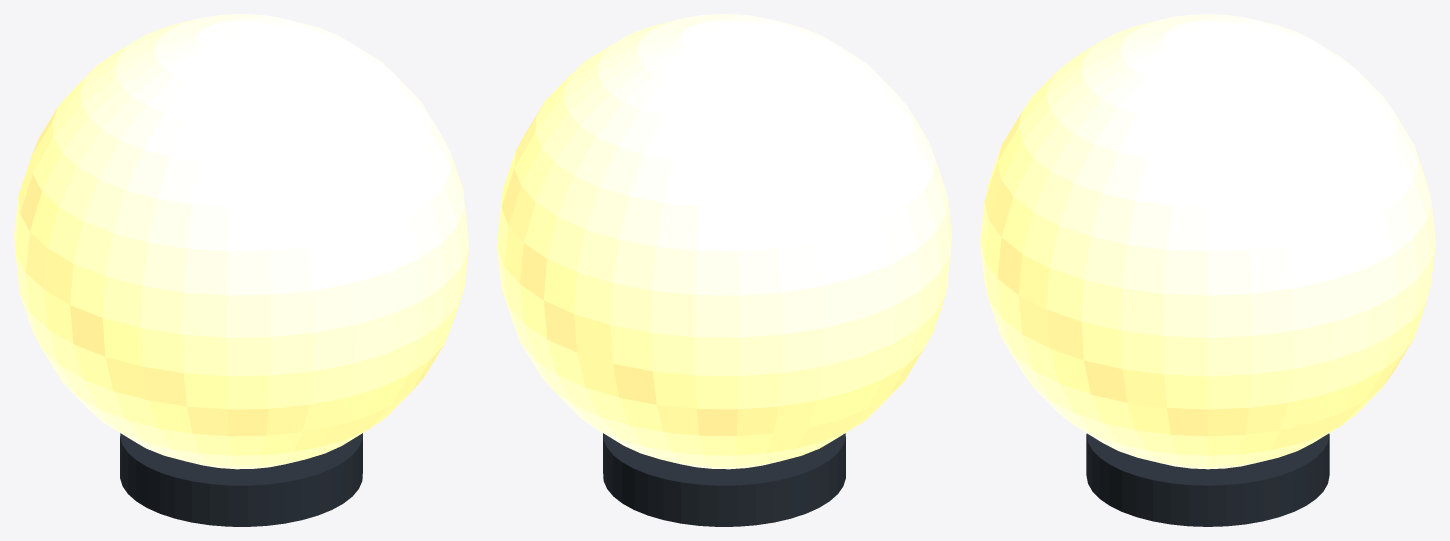
The model's file is 15_garden_sphere.glb.
3 renders of one model, left to right at view 1: azimuth 30°, elevation 25°; view 2: azimuth 150°, elevation 25°; view 3: azimuth 270°, elevation 25°, orthographic.
Size of the model in its own units: 0.3 by 0.32 by 0.3.
